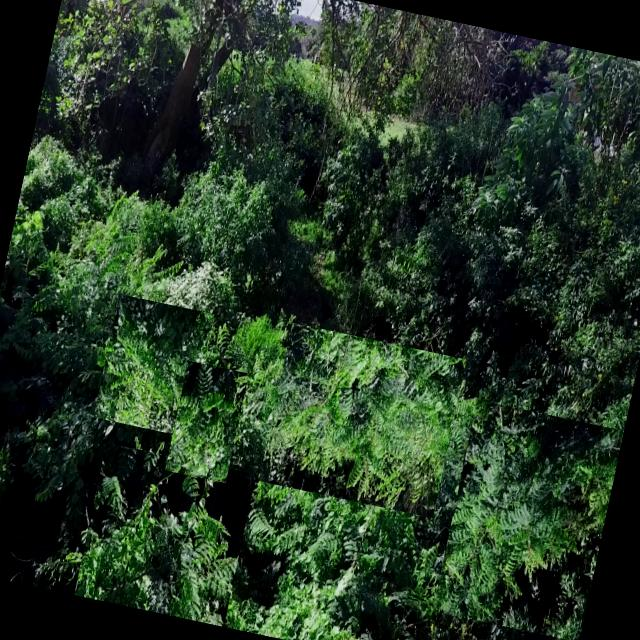Mysore-Thorn-Weed: (432, 399, 624, 640), (258, 322, 466, 518), (74, 442, 255, 626), (41, 198, 192, 337), (93, 294, 214, 437), (164, 360, 248, 482)
